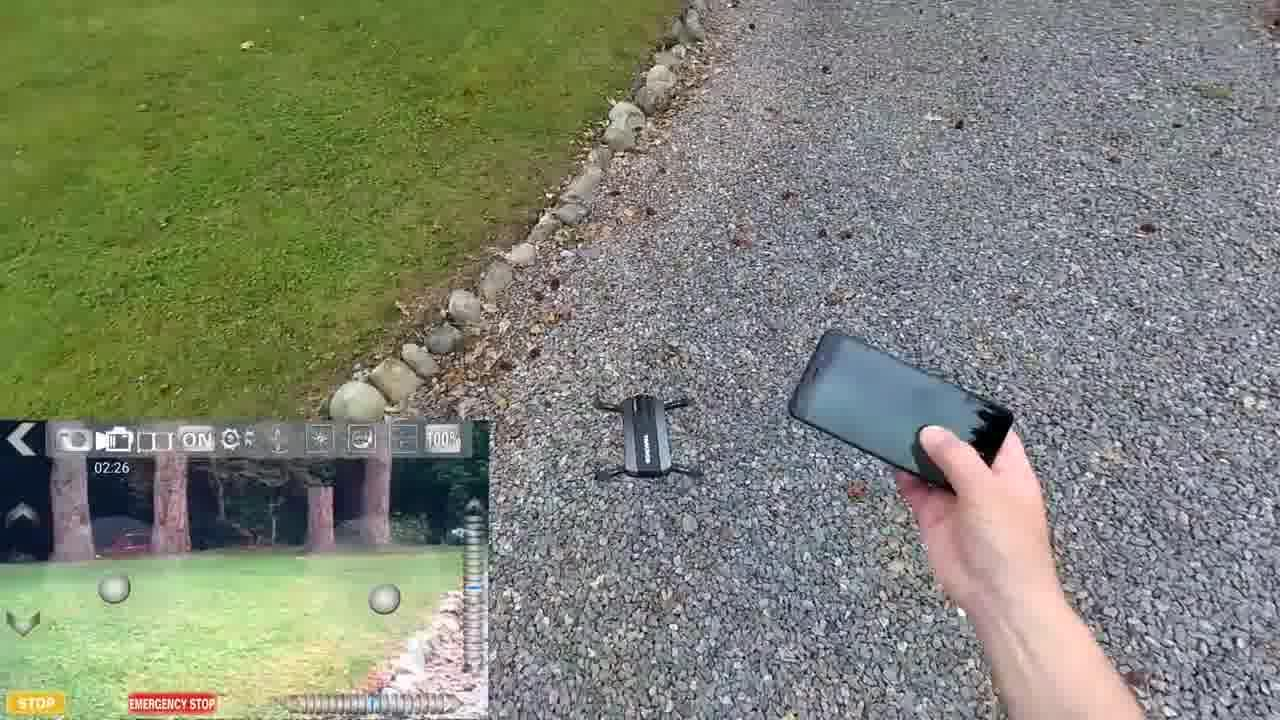drone: (578, 377, 711, 488)
